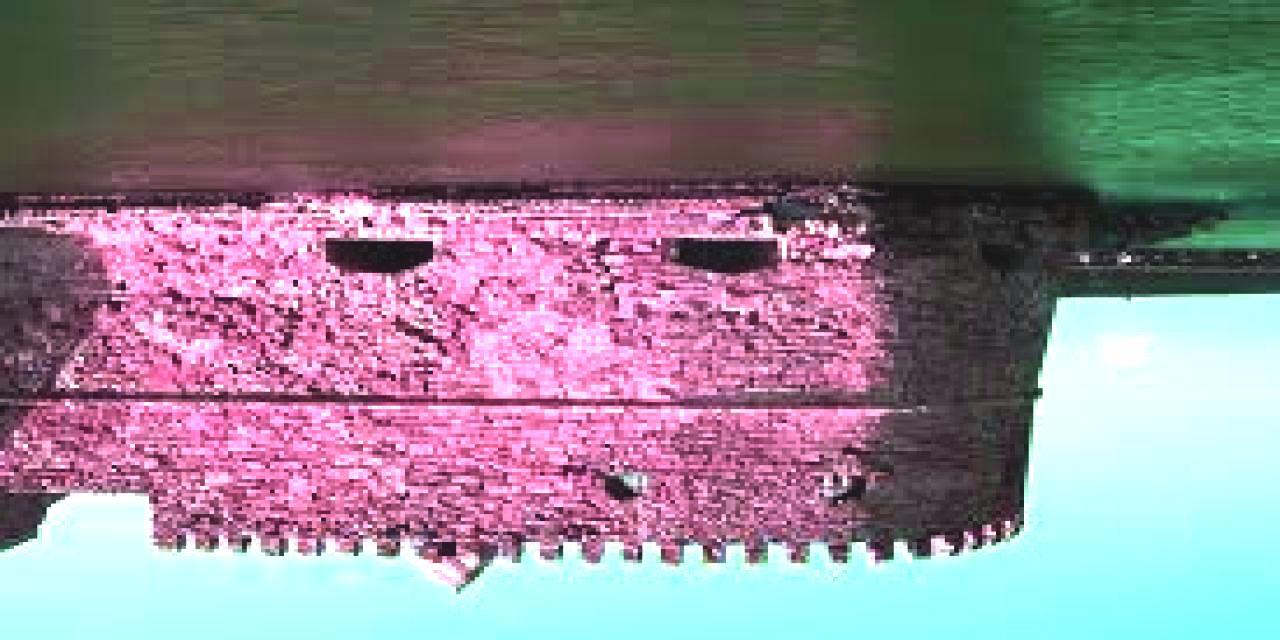Kules: (1, 187, 1105, 603)
